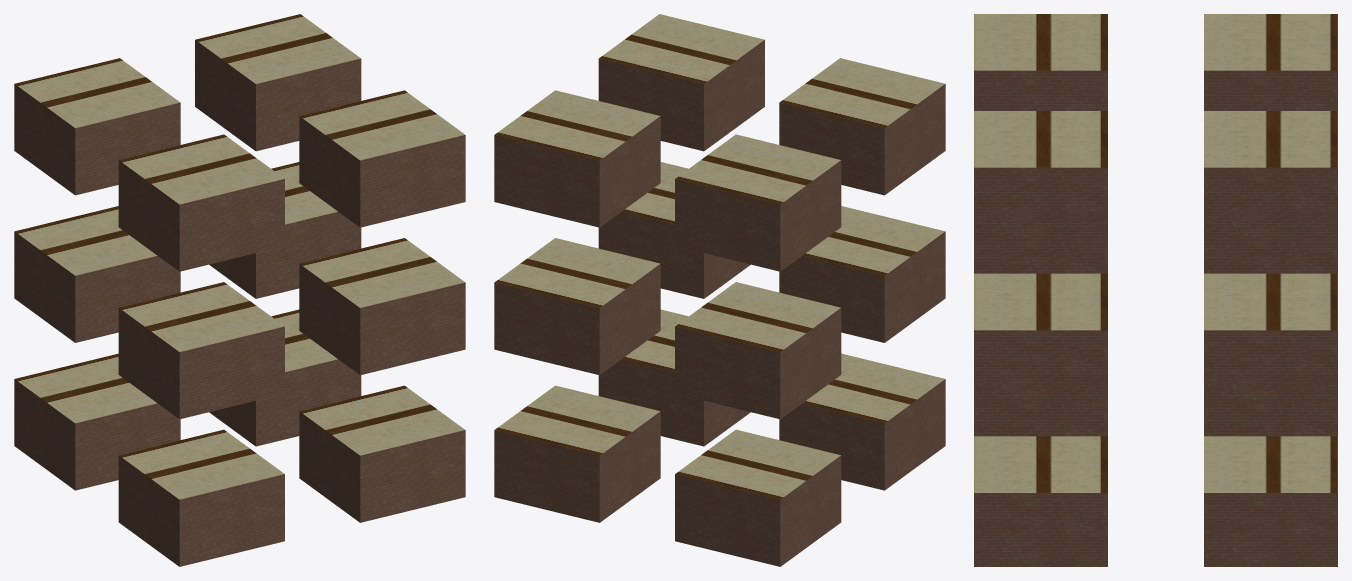
File: Building_Small_1_destructible.gltf
3 renders of one model, left to right at view 1: azimuth 30°, elevation 25°; view 2: azimuth 150°, elevation 25°; view 3: azimuth 270°, elevation 25°, orthographic. The views are drawn at different scales.
Parts seen in each view (by area): view 1: block_f2_r1_c1, block_f0_r1_c1, block_f1_r1_c0, block_f2_r1_c0, block_f0_r1_c0, block_f1_r1_c1, block_f2_r0_c0, block_f2_r0_c1, block_f0_r0_c0, block_f1_r0_c0, block_f0_r0_c1, block_f1_r0_c1; view 2: block_f2_r0_c1, block_f0_r0_c1, block_f1_r0_c0, block_f2_r0_c0, block_f0_r0_c0, block_f1_r0_c1, block_f2_r1_c0, block_f2_r1_c1, block_f0_r1_c0, block_f1_r1_c0, block_f0_r1_c1, block_f1_r1_c1; view 3: block_f1_r0_c1, block_f1_r1_c1, block_f0_r0_c1, block_f0_r1_c1, block_f2_r0_c1, block_f2_r1_c1, block_f2_r0_c0, block_f2_r1_c0, block_f0_r0_c0, block_f0_r1_c0, block_f1_r0_c0, block_f1_r1_c0.
Part boxes in pixels (x1,y1,x2,y2): block_f2_r1_c1: [299, 90, 465, 227]; block_f0_r1_c1: [299, 385, 465, 522]; block_f1_r1_c0: [118, 282, 284, 419]; block_f2_r1_c0: [118, 134, 284, 271]; block_f0_r1_c0: [118, 429, 284, 566]; block_f1_r1_c1: [299, 238, 465, 375]; block_f2_r0_c0: [14, 58, 180, 195]; block_f2_r0_c1: [195, 14, 361, 151]; block_f0_r0_c0: [14, 353, 180, 490]; block_f1_r0_c0: [14, 206, 180, 342]; block_f0_r0_c1: [209, 309, 361, 446]; block_f1_r0_c1: [209, 162, 361, 298]; block_f2_r0_c1: [494, 90, 660, 227]; block_f0_r0_c1: [494, 385, 660, 522]; block_f1_r0_c0: [675, 282, 841, 419]; block_f2_r0_c0: [675, 134, 841, 271]; block_f0_r0_c0: [675, 429, 841, 566]; block_f1_r0_c1: [494, 238, 660, 375]; block_f2_r1_c0: [779, 58, 945, 195]; block_f2_r1_c1: [598, 14, 764, 151]; block_f0_r1_c0: [779, 353, 945, 490]; block_f1_r1_c0: [779, 206, 945, 342]; block_f0_r1_c1: [598, 309, 750, 446]; block_f1_r1_c1: [598, 162, 750, 298]; block_f1_r0_c1: [1204, 273, 1337, 404]; block_f1_r1_c1: [974, 273, 1107, 404]; block_f0_r0_c1: [1204, 436, 1337, 566]; block_f0_r1_c1: [974, 436, 1107, 566]; block_f2_r0_c1: [1204, 111, 1337, 241]; block_f2_r1_c1: [974, 111, 1107, 241]; block_f2_r0_c0: [1204, 14, 1337, 110]; block_f2_r1_c0: [974, 14, 1107, 110]; block_f0_r0_c0: [1204, 404, 1337, 436]; block_f0_r1_c0: [974, 404, 1107, 436]; block_f1_r0_c0: [1204, 241, 1337, 273]; block_f1_r1_c0: [974, 241, 1107, 273].
Bounding box in the file's own units: 6.73 × 8.15 × 6.73.
Materials: 3 (3 with a texture image).
